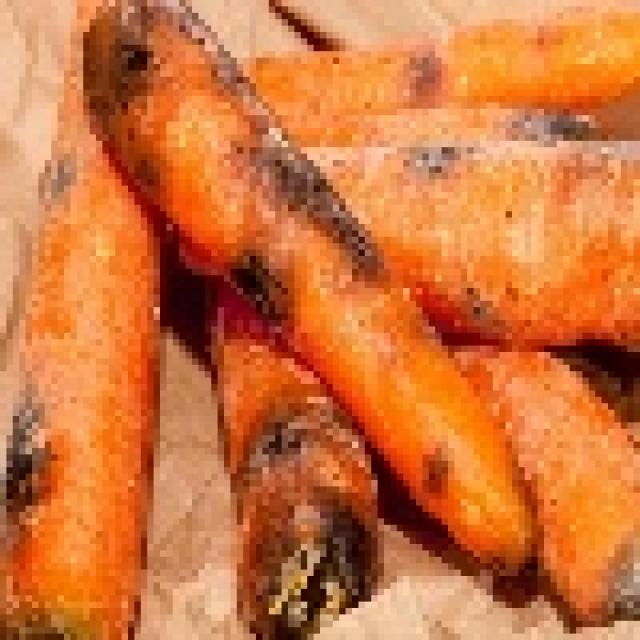Stale_Carrot: (79, 0, 373, 308), (208, 315, 400, 640), (9, 324, 132, 640), (371, 104, 598, 241)
